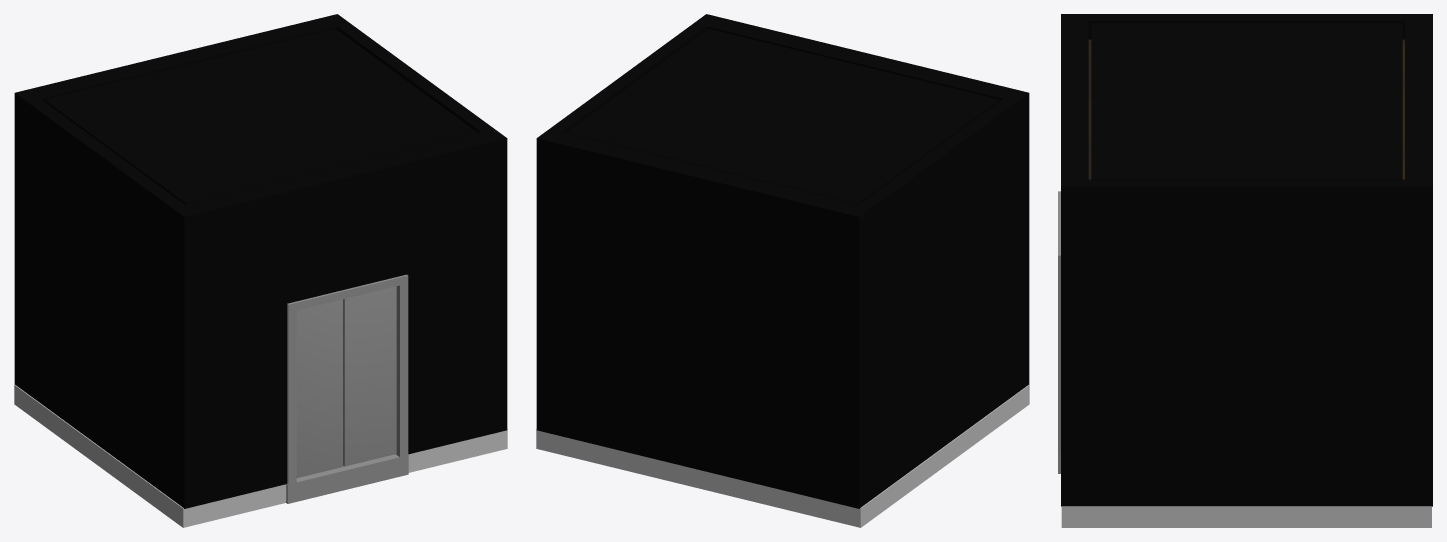
File: Elevator.fbx
The picture shows the model from 3 angles, left to right: view 1: azimuth 30°, elevation 25°; view 2: azimuth 150°, elevation 25°; view 3: azimuth 270°, elevation 25°; orthographic projection. The views are drawn at different scales.
Visible parts, largest first — view 1: walls, ceiling frame, Door left, Door right, floor, door frame, Door rack; view 2: walls, ceiling frame, floor; view 3: walls, ceiling frame, floor, wood wall 1, door frame.
Boxes of the visible parts, x1,y1,x2,y2 form: walls: [14, 14, 507, 508]; ceiling frame: [44, 28, 477, 204]; Door left: [343, 286, 396, 466]; Door right: [296, 299, 343, 477]; floor: [14, 384, 507, 527]; door frame: [287, 274, 408, 484]; Door rack: [286, 454, 408, 503]; walls: [536, 14, 1029, 508]; ceiling frame: [566, 28, 999, 204]; floor: [536, 384, 1029, 527]; walls: [1061, 14, 1432, 506]; ceiling frame: [1091, 23, 1402, 179]; floor: [1061, 506, 1431, 527]; wood wall 1: [1088, 39, 1404, 179]; door frame: [1058, 191, 1060, 452].
Size of the model in its own units: 496 by 455 by 453.
